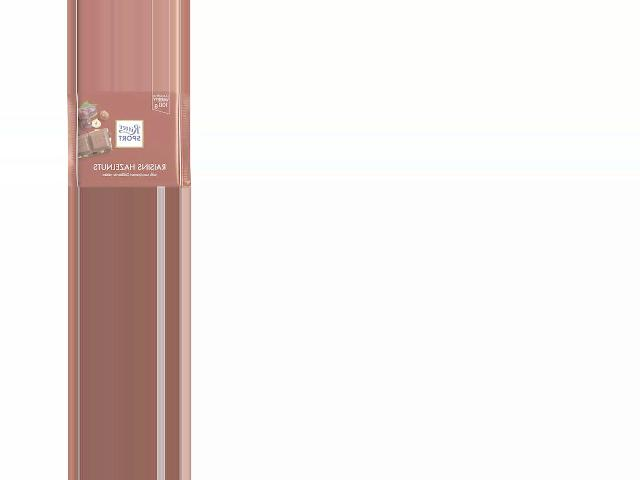chocolate: (65, 91, 190, 188)
